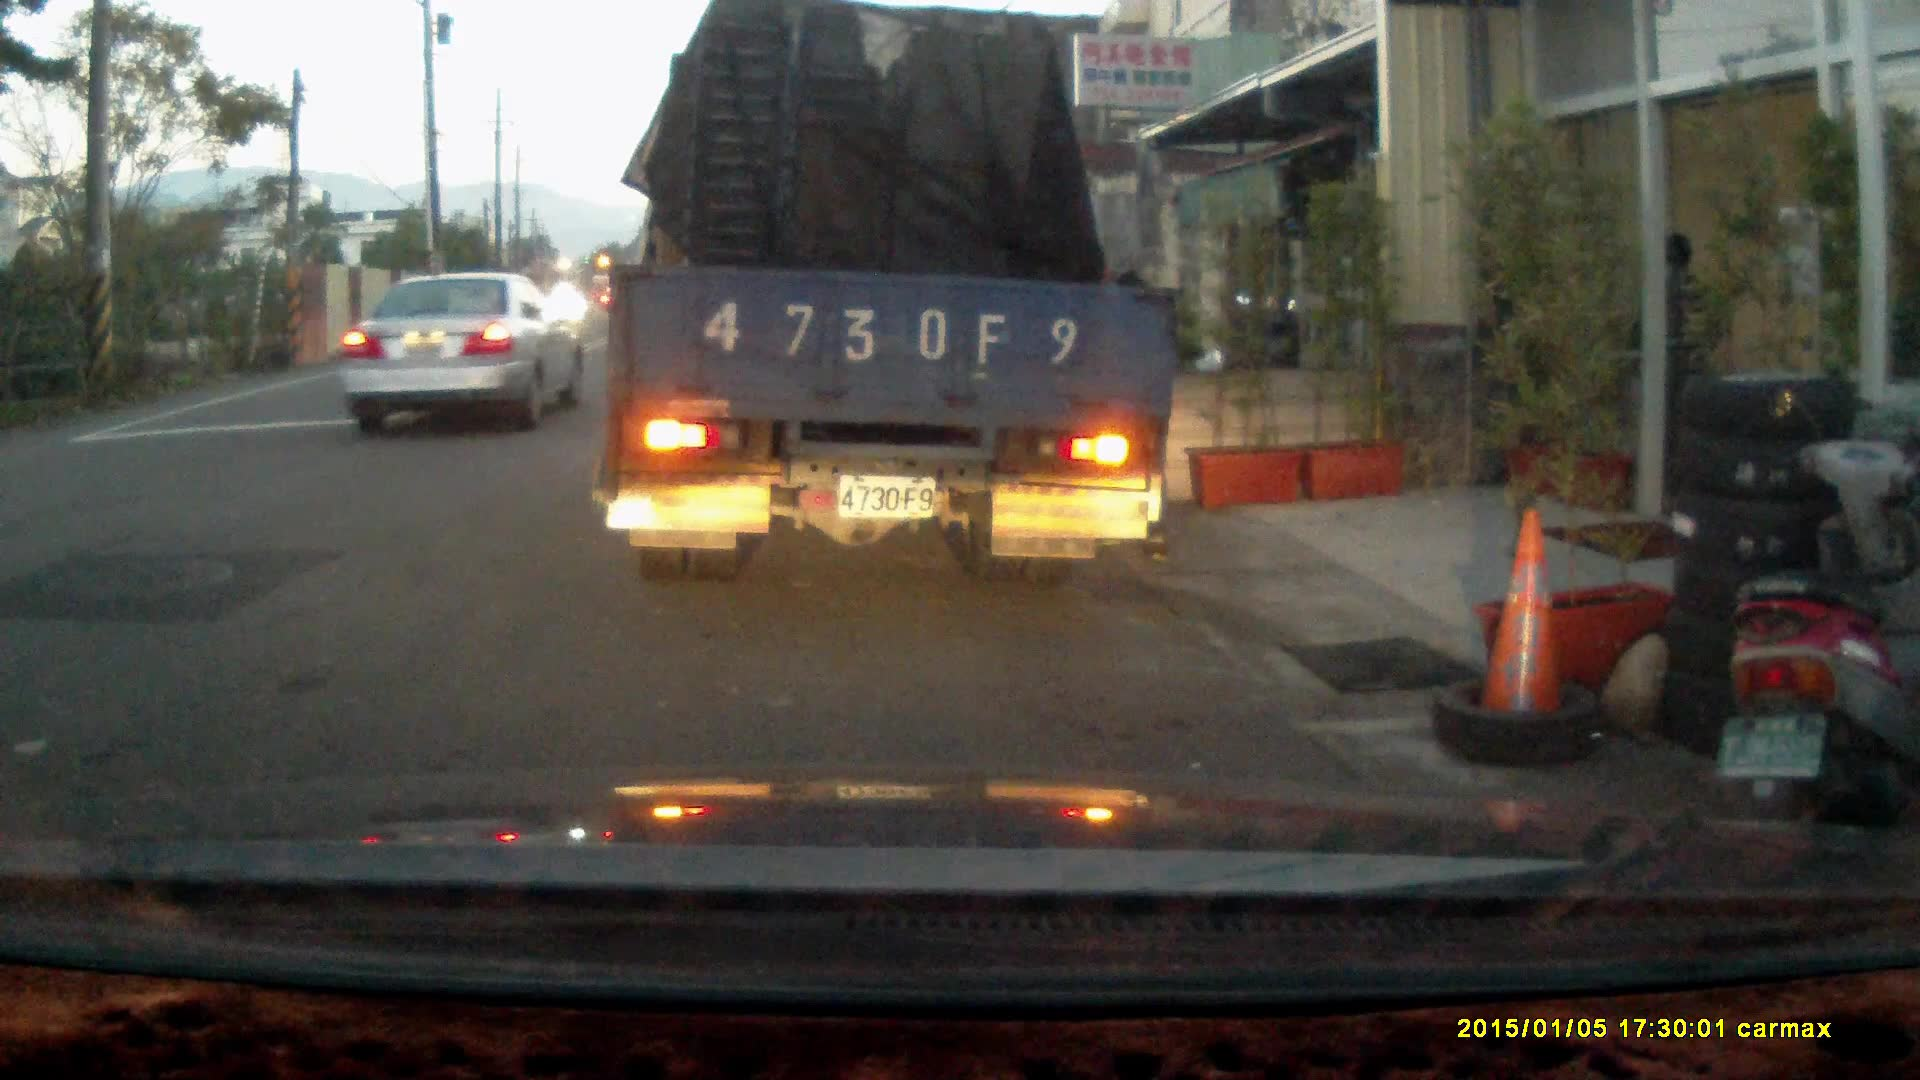pedestrian: (1635, 229, 1722, 478)
vehicle: (605, 23, 1188, 572), (338, 268, 589, 429)
